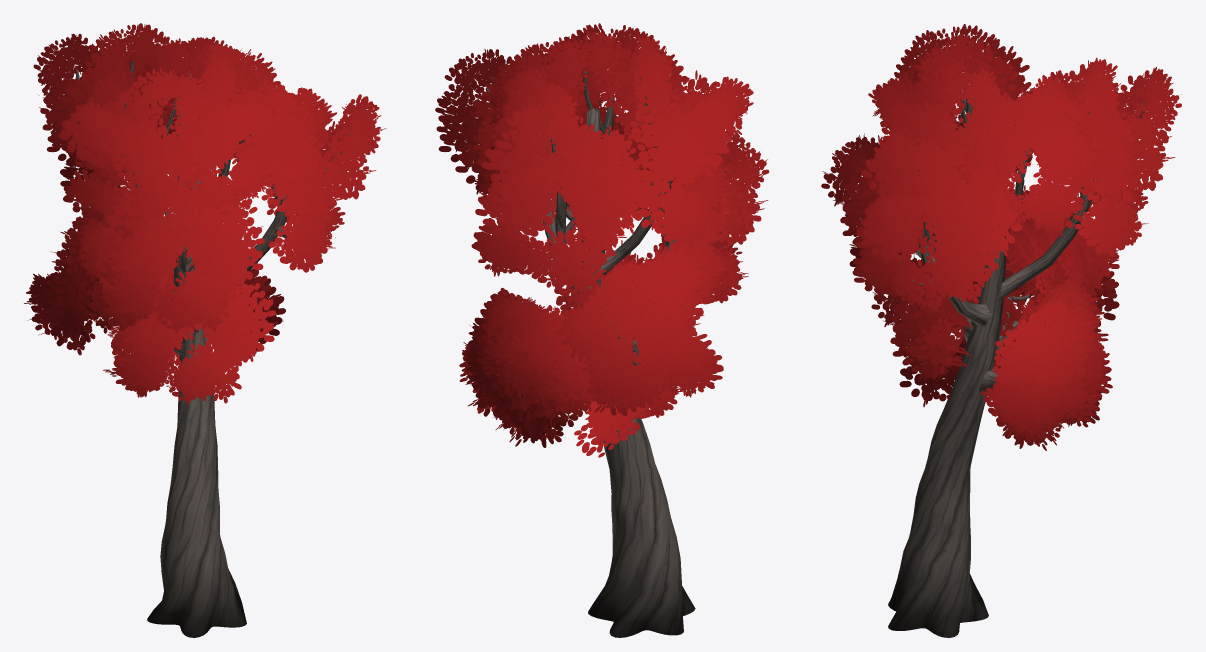
Rendered from TwistedTree_5.gltf.
The picture shows the model from 3 angles, left to right: view 1: azimuth 30°, elevation 25°; view 2: azimuth 150°, elevation 25°; view 3: azimuth 270°, elevation 25°; orthographic projection. The views are drawn at different scales.
Visible parts, largest first — view 1: TwistedTree_5; view 2: TwistedTree_5; view 3: TwistedTree_5.
Part boxes in pixels (box(x1,y1,x2,y2)): TwistedTree_5: box(24, 23, 386, 637); TwistedTree_5: box(435, 23, 769, 637); TwistedTree_5: box(821, 24, 1181, 637).
Bounding box in the file's own units: 9.49 × 15.66 × 9.39.
2 materials, 2 textured.
